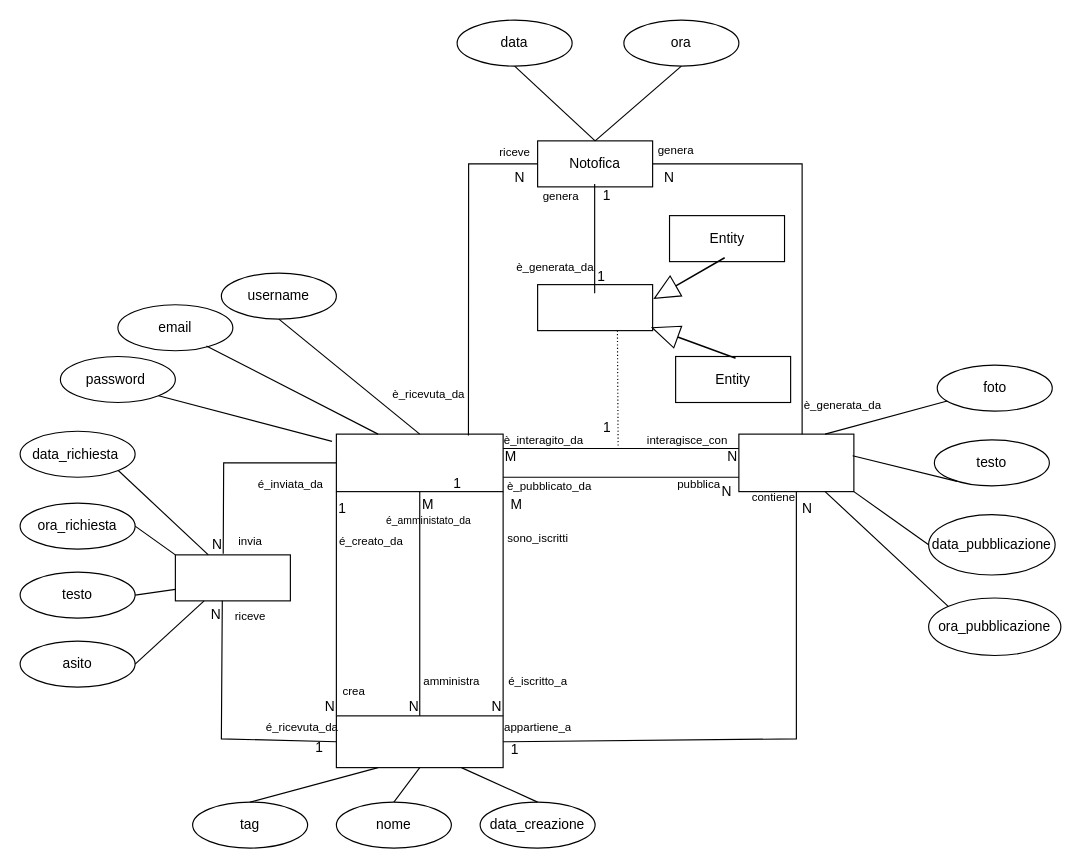
This 1081x868 diagram has some shape labels left out. Each missing label, with the box of its shape:
gruppo: (335, 715, 503, 768)
interazioni: (536, 283, 653, 331)
post: (738, 433, 854, 492)
Richiesta: (174, 554, 290, 601)
Utente: (335, 433, 503, 492)
